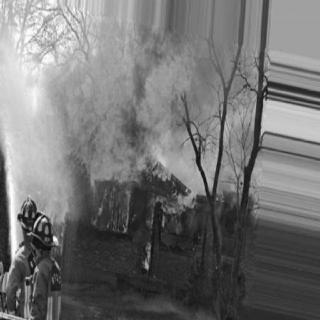Fire: (11, 164, 77, 236)
